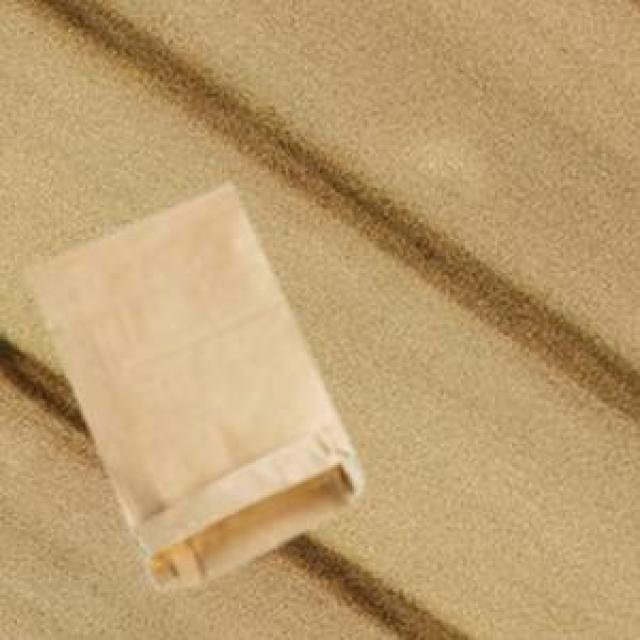paper: (24, 181, 358, 585)
